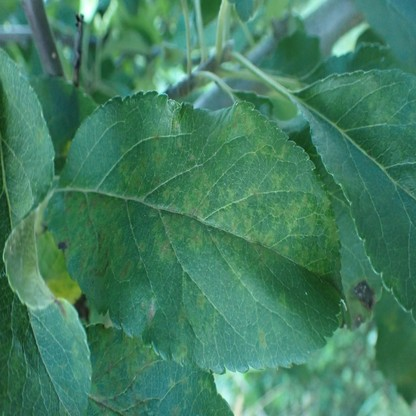scab: (59, 106, 338, 356), (86, 324, 212, 416), (356, 72, 390, 127), (345, 278, 375, 329), (54, 299, 67, 324), (35, 128, 44, 145)
